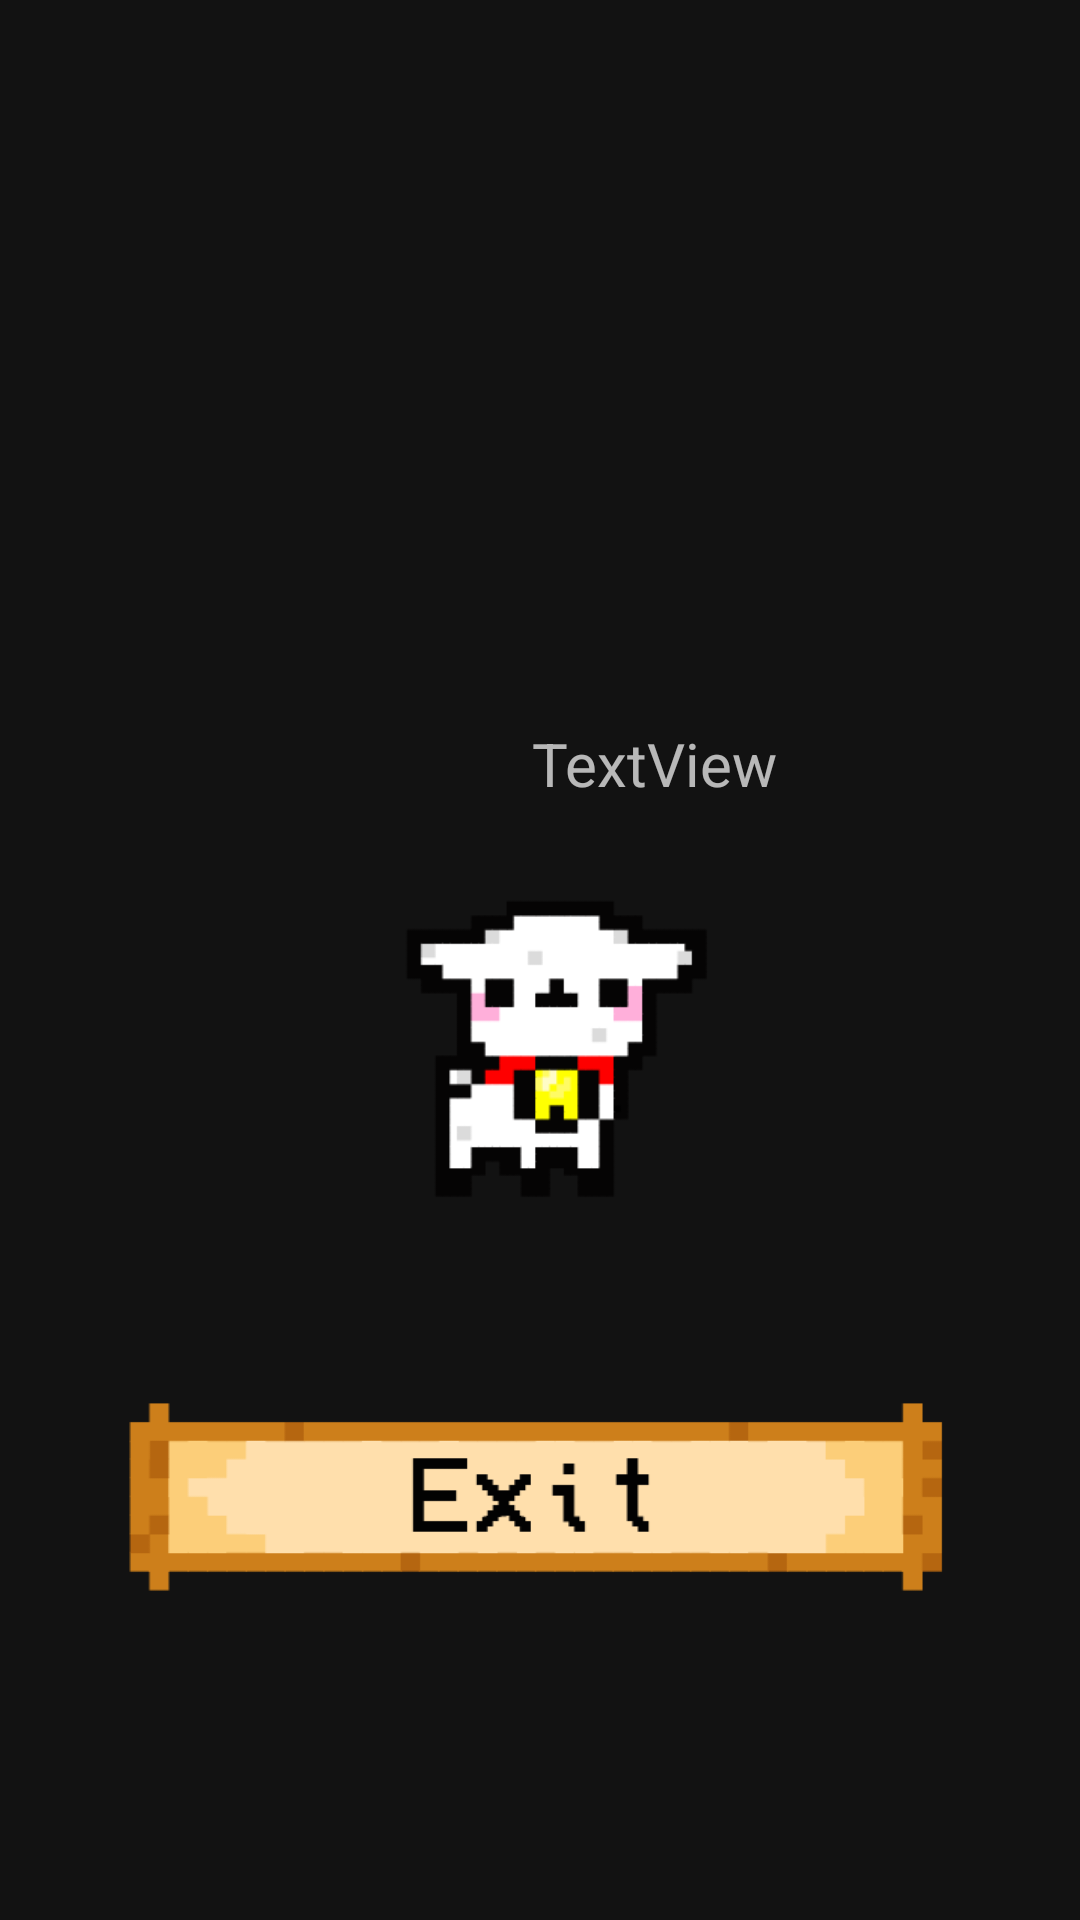

Screen size 1080w x 1920h. Icon name, then its center in pixels as (x=x, y=y):
jugador: (x=556, y=1042)
